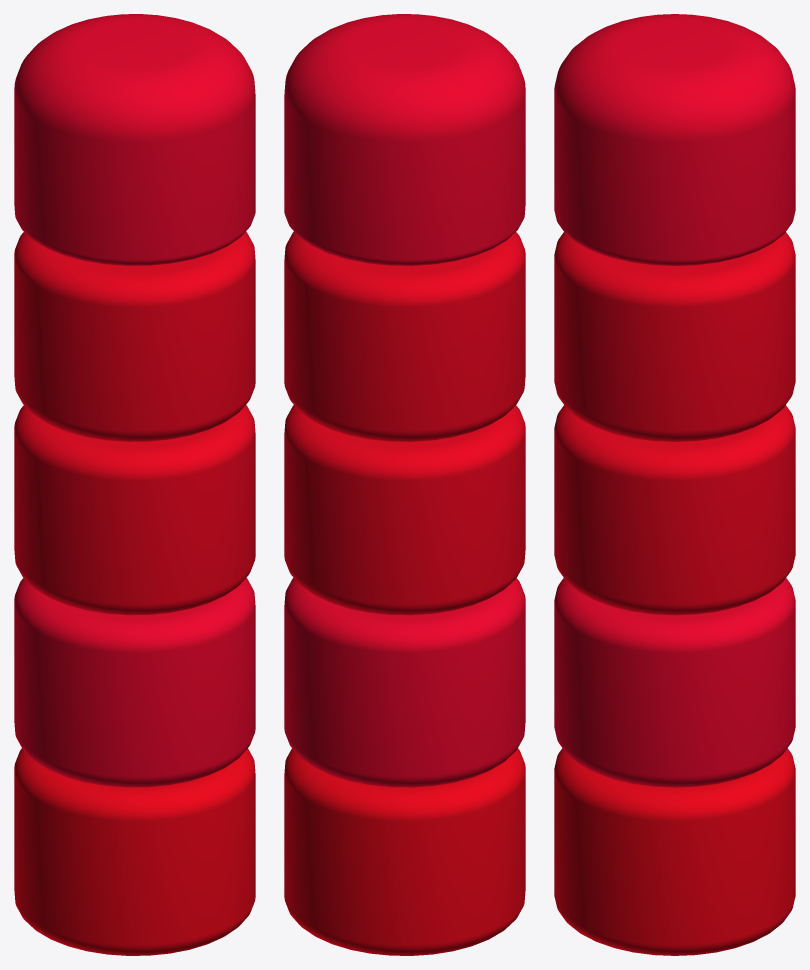
The model's file is darumabody01.fbx.
The picture shows the model from 3 angles, left to right: view 1: azimuth 30°, elevation 25°; view 2: azimuth 150°, elevation 25°; view 3: azimuth 270°, elevation 25°; orthographic projection.
Parts seen in each view (by area): view 1: head, body2, body3, body4, body1; view 2: head, body2, body3, body4, body1; view 3: head, body2, body3, body4, body1.
Part boxes in pixels (x1=…): head: x1=14, y1=14, x2=255, y2=265; body2: x1=14, y1=231, x2=255, y2=441; body3: x1=14, y1=405, x2=255, y2=615; body4: x1=14, y1=578, x2=255, y2=787; body1: x1=14, y1=748, x2=255, y2=955; head: x1=284, y1=14, x2=525, y2=265; body2: x1=284, y1=231, x2=525, y2=441; body3: x1=284, y1=405, x2=525, y2=615; body4: x1=284, y1=578, x2=525, y2=787; body1: x1=284, y1=748, x2=525, y2=955; head: x1=554, y1=14, x2=795, y2=265; body2: x1=554, y1=232, x2=795, y2=441; body3: x1=554, y1=405, x2=795, y2=615; body4: x1=554, y1=578, x2=795, y2=787; body1: x1=554, y1=748, x2=795, y2=955.
Bounding box in the file's own units: 426 × 1691 × 426.
